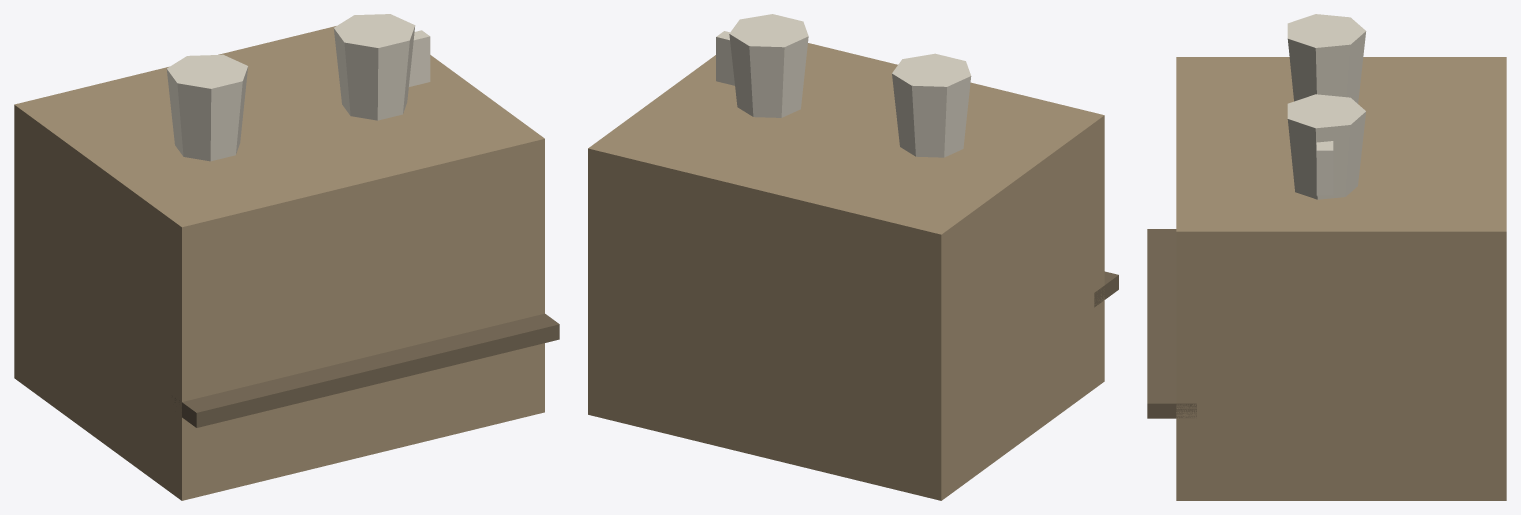
File: cups.glb
The picture shows the model from 3 angles, left to right: view 1: azimuth 30°, elevation 25°; view 2: azimuth 150°, elevation 25°; view 3: azimuth 270°, elevation 25°; orthographic projection. The views are drawn at different scales.
Parts seen in each view (by area): view 1: driftwood_d15, bone_d5, driftwood_d40; view 2: driftwood_d15, bone_d5; view 3: driftwood_d15, bone_d5, driftwood_d40.
Part boxes in pixels (x1=…): driftwood_d15: x1=14, y1=26, x2=544, y2=500; bone_d5: x1=166, y1=14, x2=430, y2=161; driftwood_d40: x1=172, y1=313, x2=559, y2=427; driftwood_d15: x1=588, y1=43, x2=1104, y2=500; bone_d5: x1=716, y1=14, x2=971, y2=157; driftwood_d15: x1=1176, y1=57, x2=1506, y2=500; bone_d5: x1=1287, y1=14, x2=1366, y2=199; driftwood_d40: x1=1147, y1=229, x2=1196, y2=418.
Bounding box in the file's own units: 0.5 × 0.46 × 0.435.
